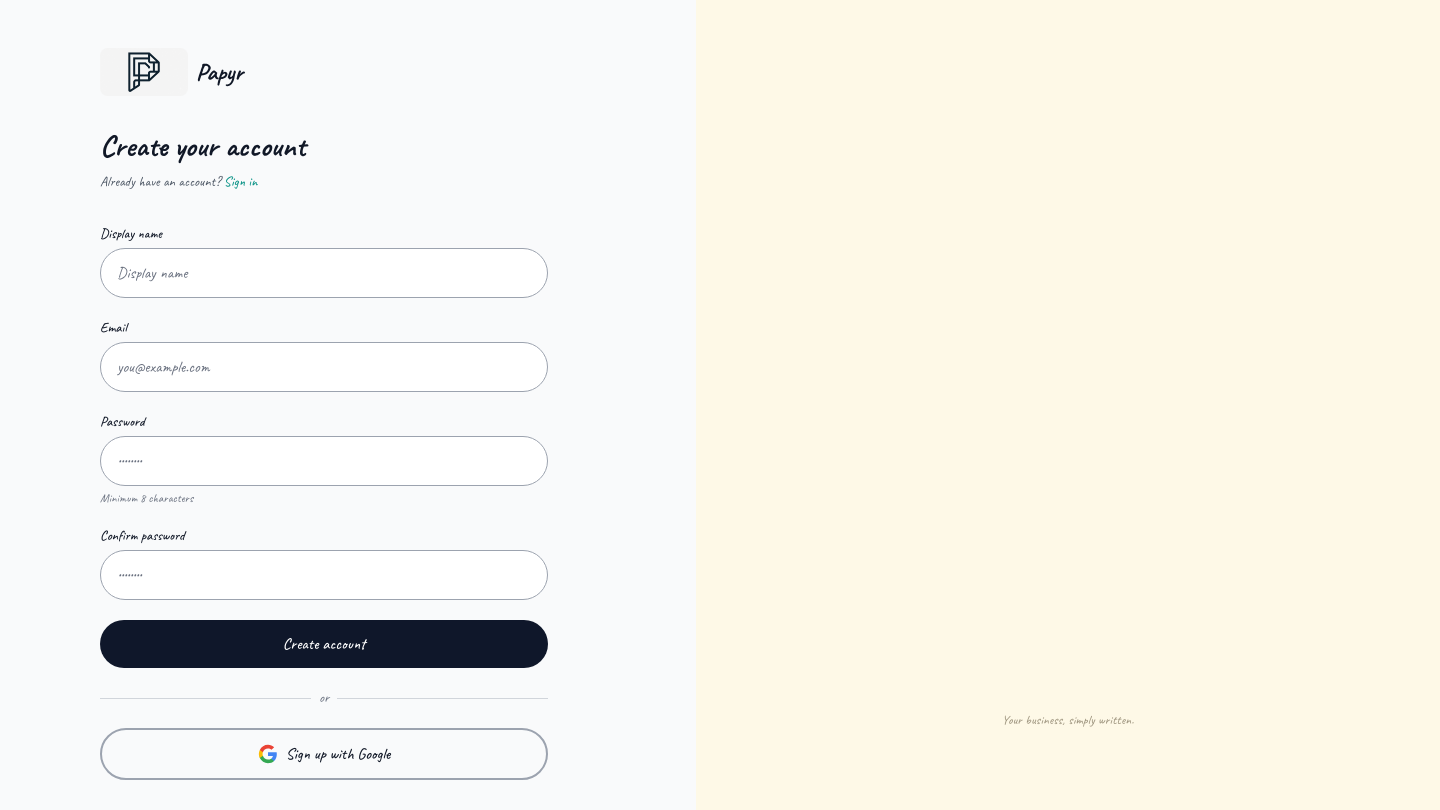
Test case: SignUpForm › shows a personalized verification dialog
Type "Ariyo" into the field labelled "Display name".
click(324, 273); type("Ariyo")  # box left=100, top=248, right=548, bottom=298
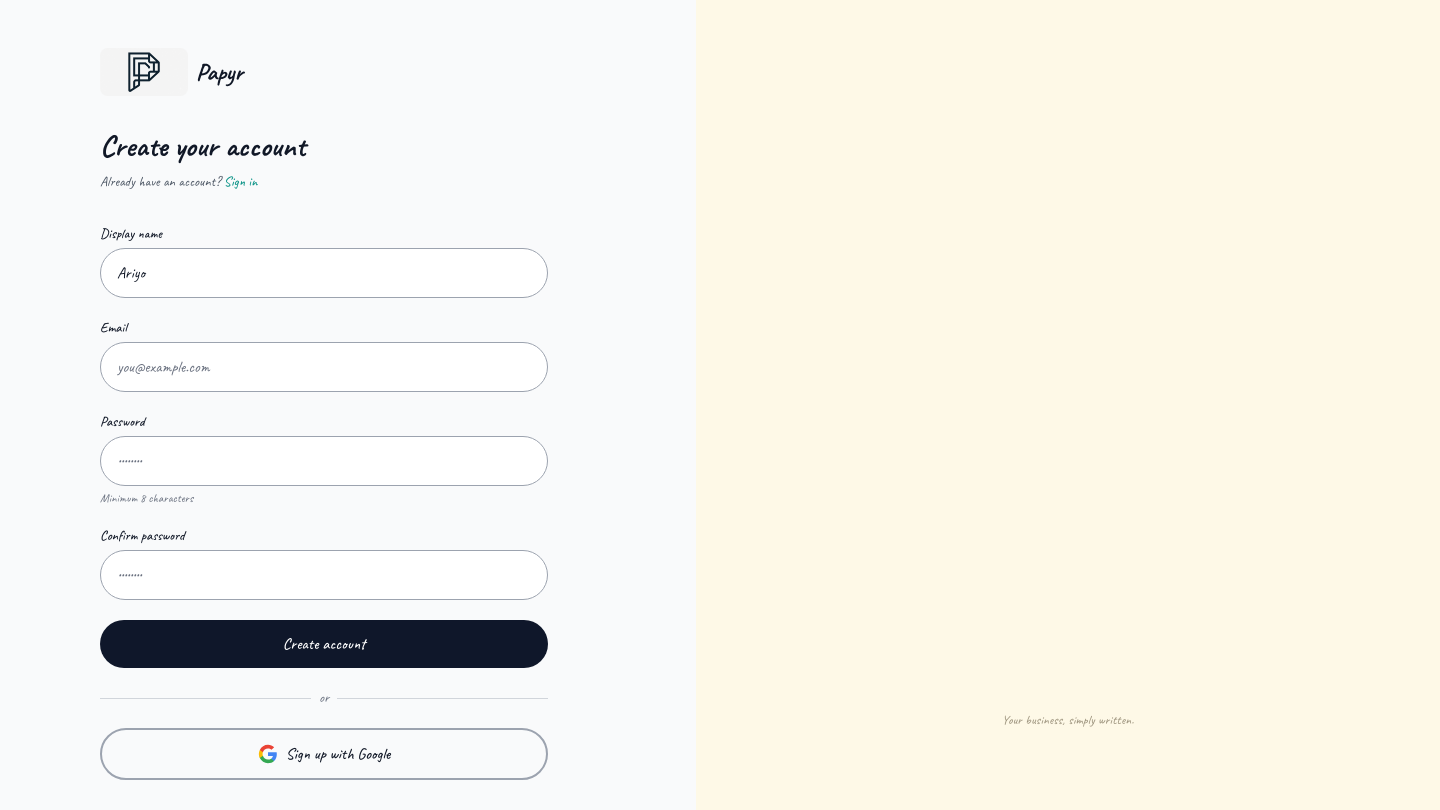
Type "ariyo@example.com" into the field labelled "Email".
click(324, 367); type("ariyo@example.com")  # box left=100, top=342, right=548, bottom=392
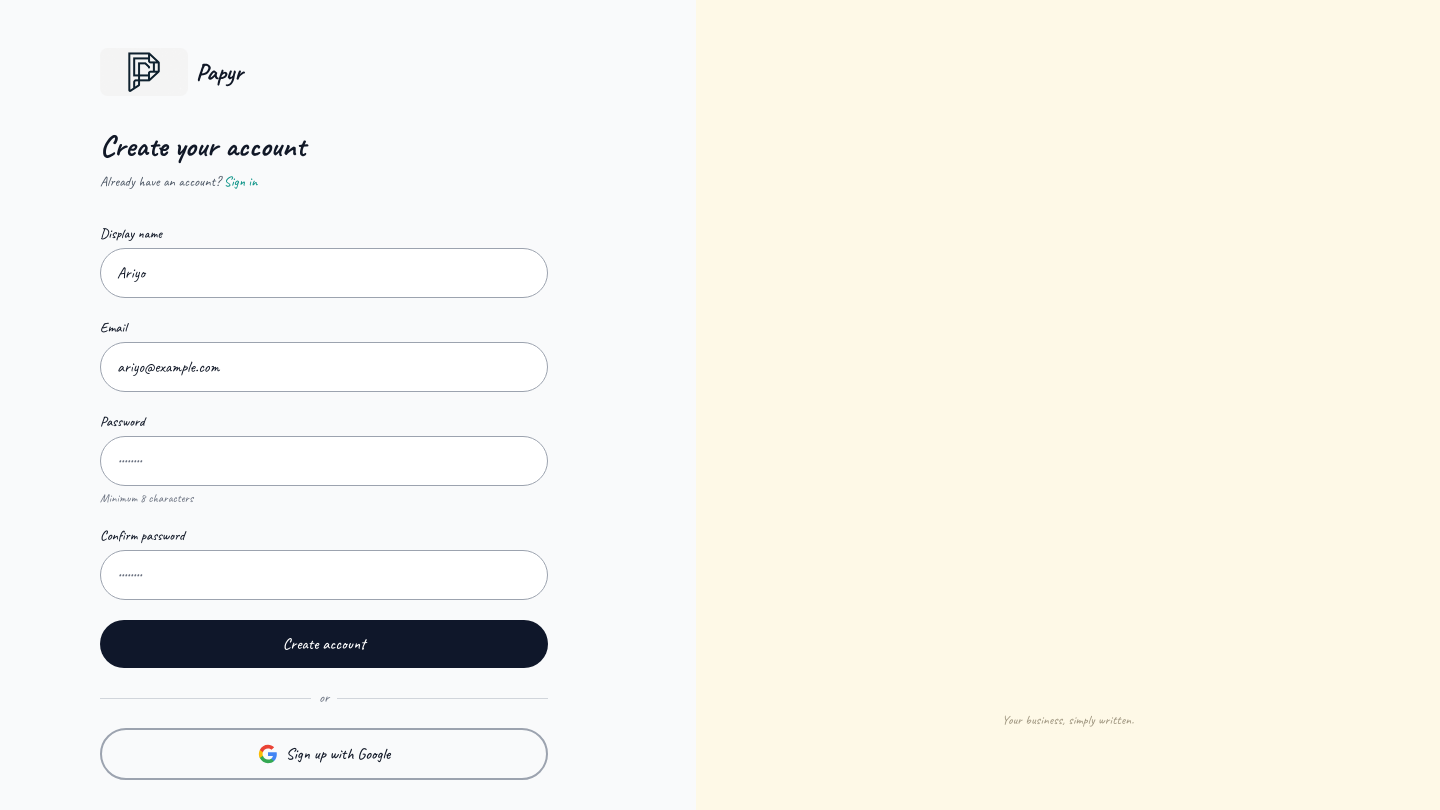
Type "password123" into the password field labelled "Password".
click(324, 461); type("password123")  # box left=100, top=436, right=548, bottom=486
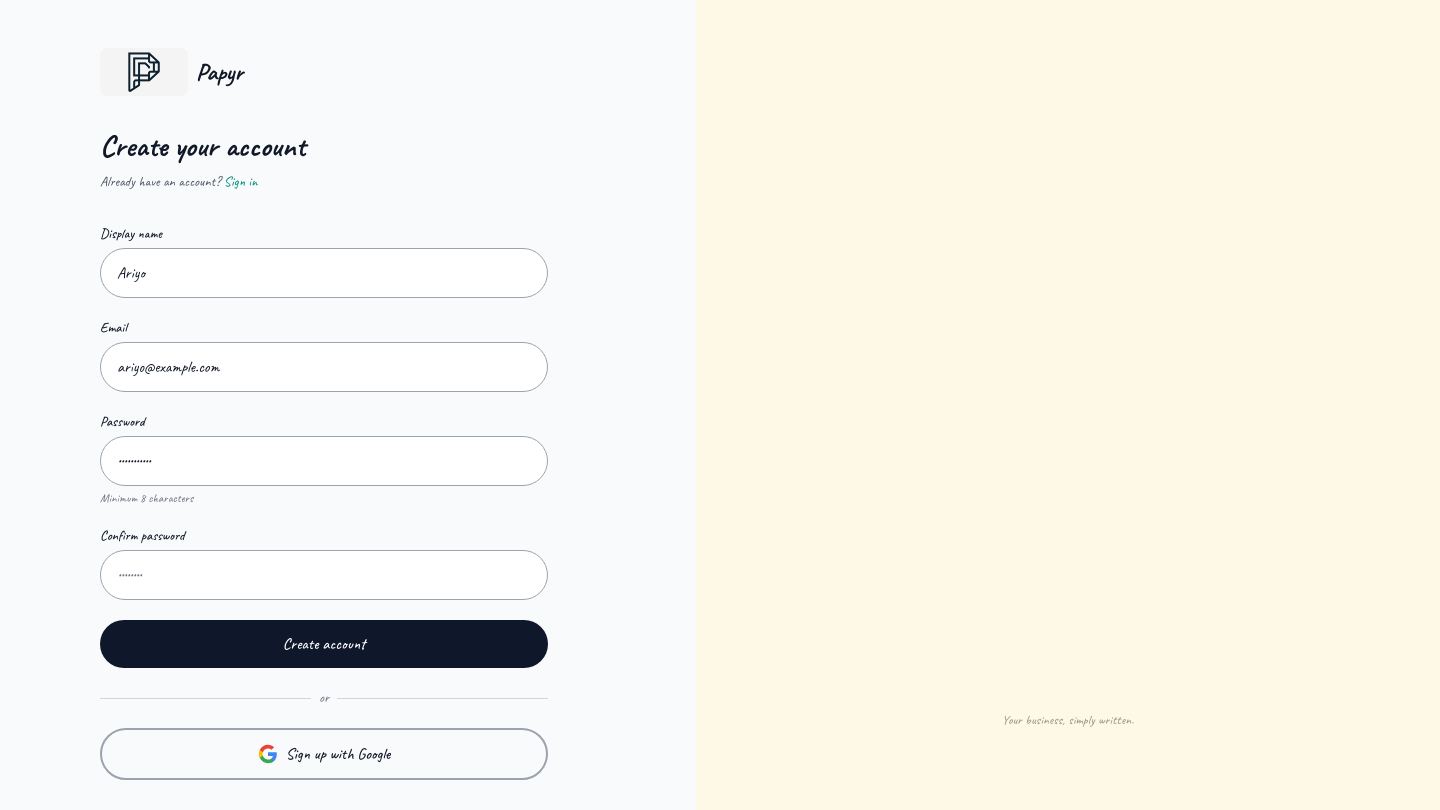
Type "password123" into the password field labelled "Confirm password".
click(324, 575); type("password123")  # box left=100, top=550, right=548, bottom=600
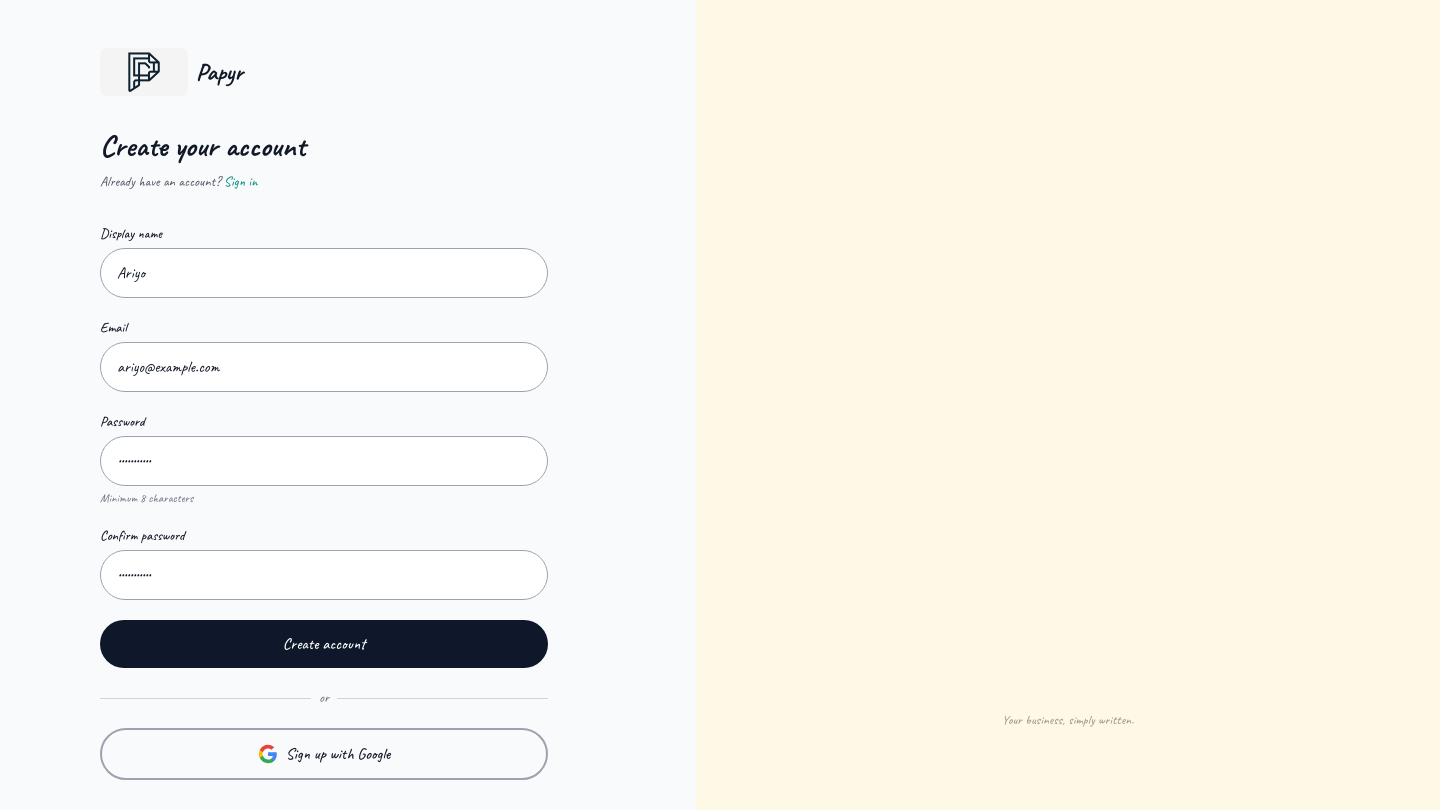
Click the button "Create account".
click(324, 644)  # box left=100, top=620, right=548, bottom=668
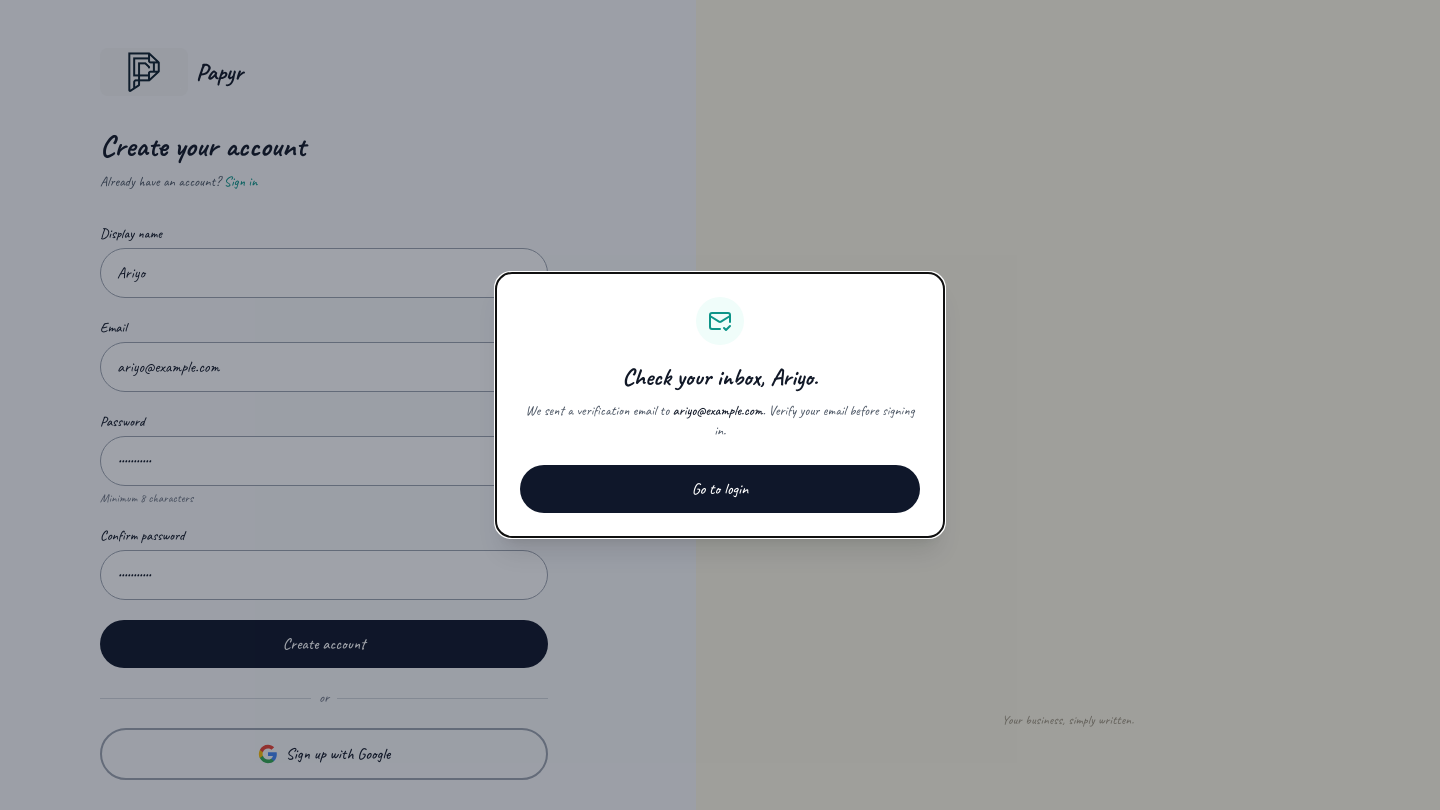
Check: the dialog shows "Ariyo", box left=771, top=362, right=813, bottom=392
Check: the dialog shows "ariyo@example.com", box left=672, top=402, right=762, bottom=419
